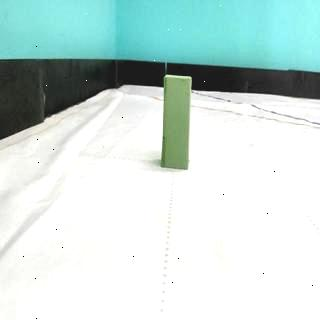greenbox: (161, 72, 192, 170)
